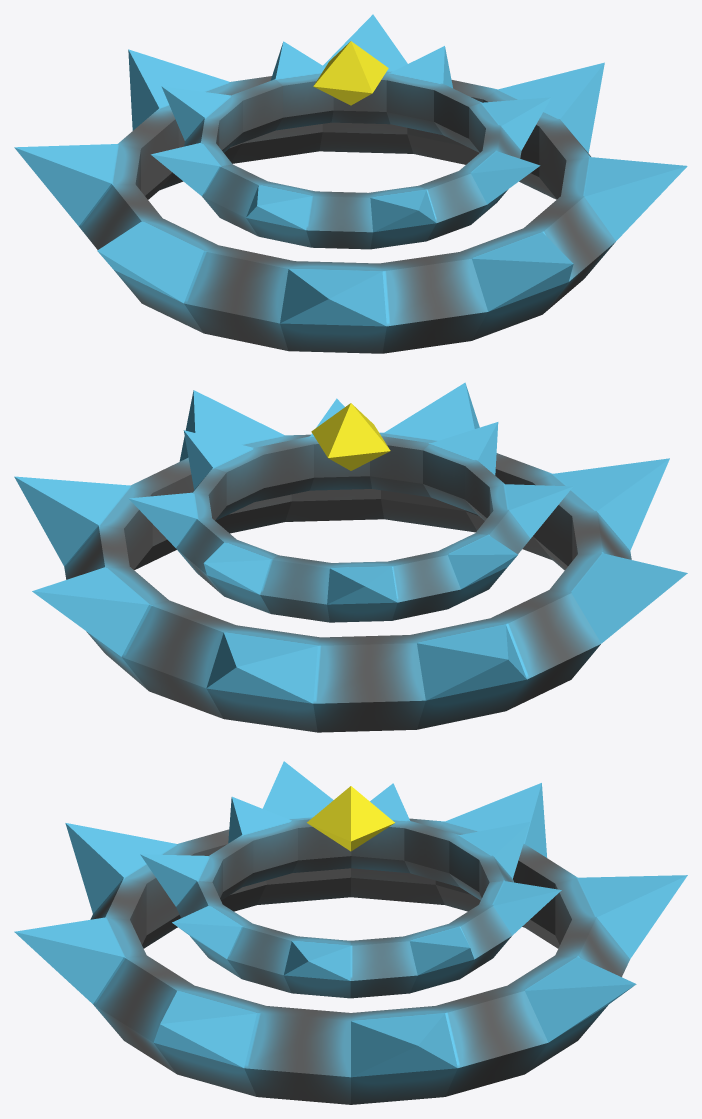
Rendered from WeaponOrbitSpheres.FBX.
The picture shows the model from 3 angles, top to bottom: view 1: azimuth 30°, elevation 25°; view 2: azimuth 150°, elevation 25°; view 3: azimuth 270°, elevation 25°; orthographic projection. The views are drawn at different scales.
Parts seen in each view (by area): view 1: Cylinder001; view 2: Cylinder001; view 3: Cylinder001.
Part boxes in pixels (x1,y1,x2,y2): Cylinder001: [14, 14, 687, 353]; Cylinder001: [14, 382, 687, 732]; Cylinder001: [14, 761, 687, 1104].
Size of the model in its own units: 78.42 by 27.65 by 78.42.
Materials: 1 (1 with a texture image).
